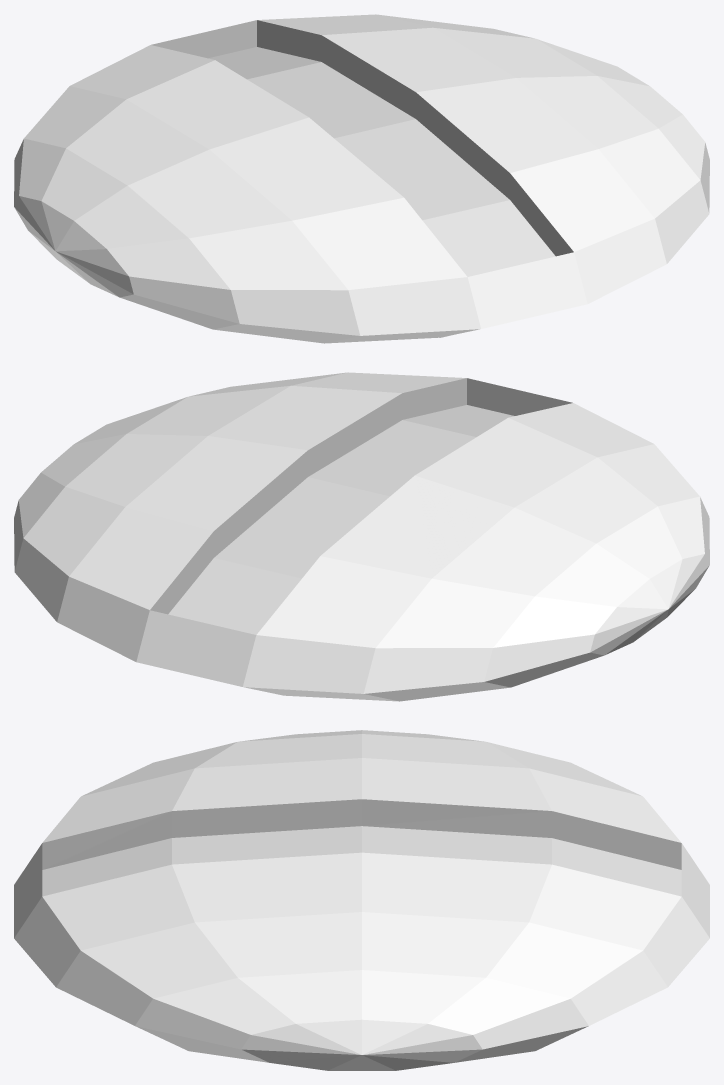
Rendered from pastillacontextura.fbx.
3 views of the same model, one above another, from view 1: azimuth 30°, elevation 25°; view 2: azimuth 150°, elevation 25°; view 3: azimuth 270°, elevation 25° (orthographic).
Visible parts, largest first — view 1: pSphere1; view 2: pSphere1; view 3: pSphere1.
Boxes of the visible parts, x1,y1,x2,y2 form: pSphere1: (14,14,709,343); pSphere1: (14,372,709,701); pSphere1: (14,730,709,1070).
Size of the model in its own units: 0.4074 by 0.0939 by 0.3971.
1 material, 1 textured.
